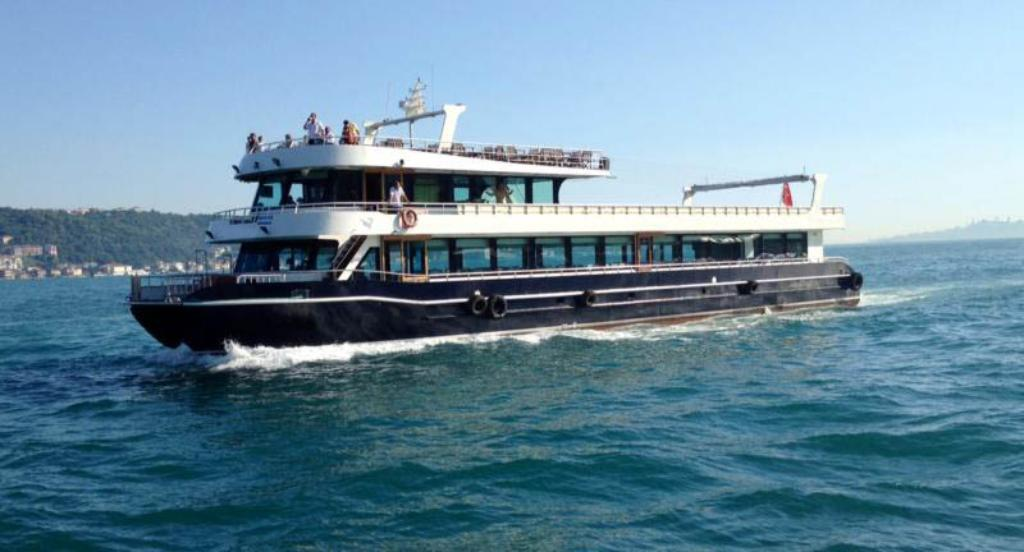PassengerShip: (120, 75, 868, 365)
